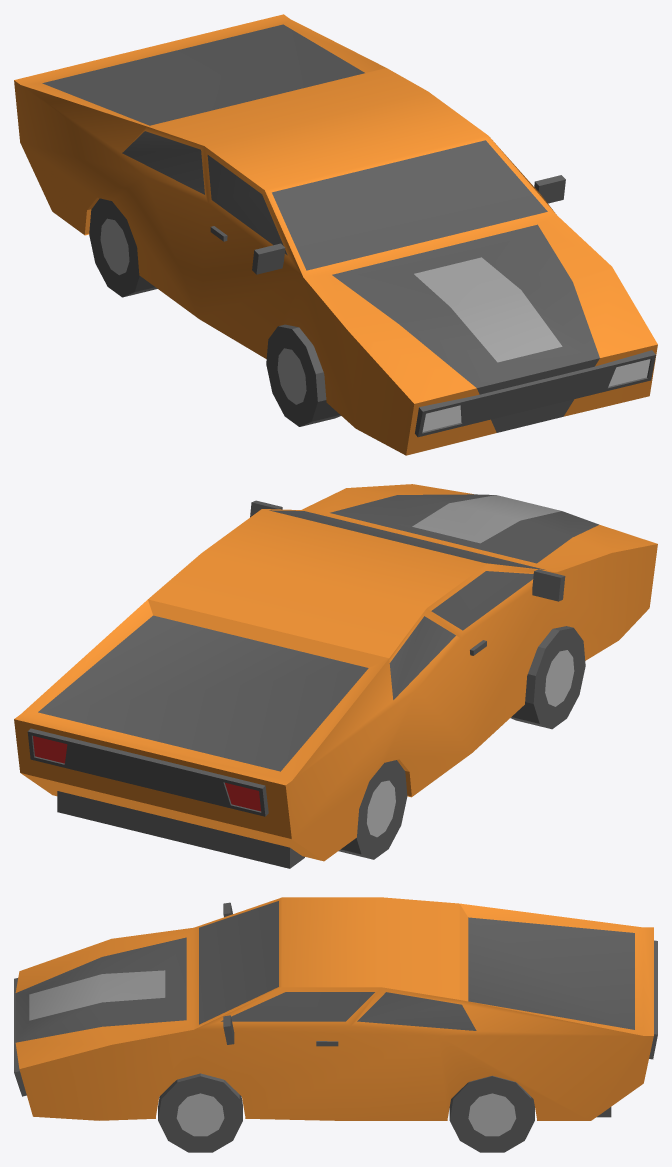
Rendered from SM_Car_05_05.FBX.
3 renders of one model, top to bottom at view 1: azimuth 30°, elevation 25°; view 2: azimuth 150°, elevation 25°; view 3: azimuth 270°, elevation 25°, orthographic. The views are drawn at different scales.
Parts seen in each view (by area): view 1: SM_Car_05_05, SM_Wheel_LFront002, SM_Wheel_RBack001; view 2: SM_Car_05_05, SM_Wheel_LFront002, SM_Wheel_RBack001; view 3: SM_Car_05_05, SM_Wheel_LFront001, SM_Wheel_LBack001.
Part boxes in pixels (x1,y1,x2,y2): SM_Car_05_05: [14, 14, 657, 455]; SM_Wheel_LFront002: [266, 324, 340, 426]; SM_Wheel_RBack001: [89, 198, 157, 297]; SM_Car_05_05: [14, 484, 657, 868]; SM_Wheel_LFront002: [510, 626, 585, 729]; SM_Wheel_RBack001: [338, 760, 407, 859]; SM_Car_05_05: [14, 897, 657, 1120]; SM_Wheel_LFront001: [158, 1073, 242, 1152]; SM_Wheel_LBack001: [449, 1075, 534, 1152].
Size of the model in its own units: 1.7 by 1 by 3.74.
Materials: 1 (1 with a texture image).
